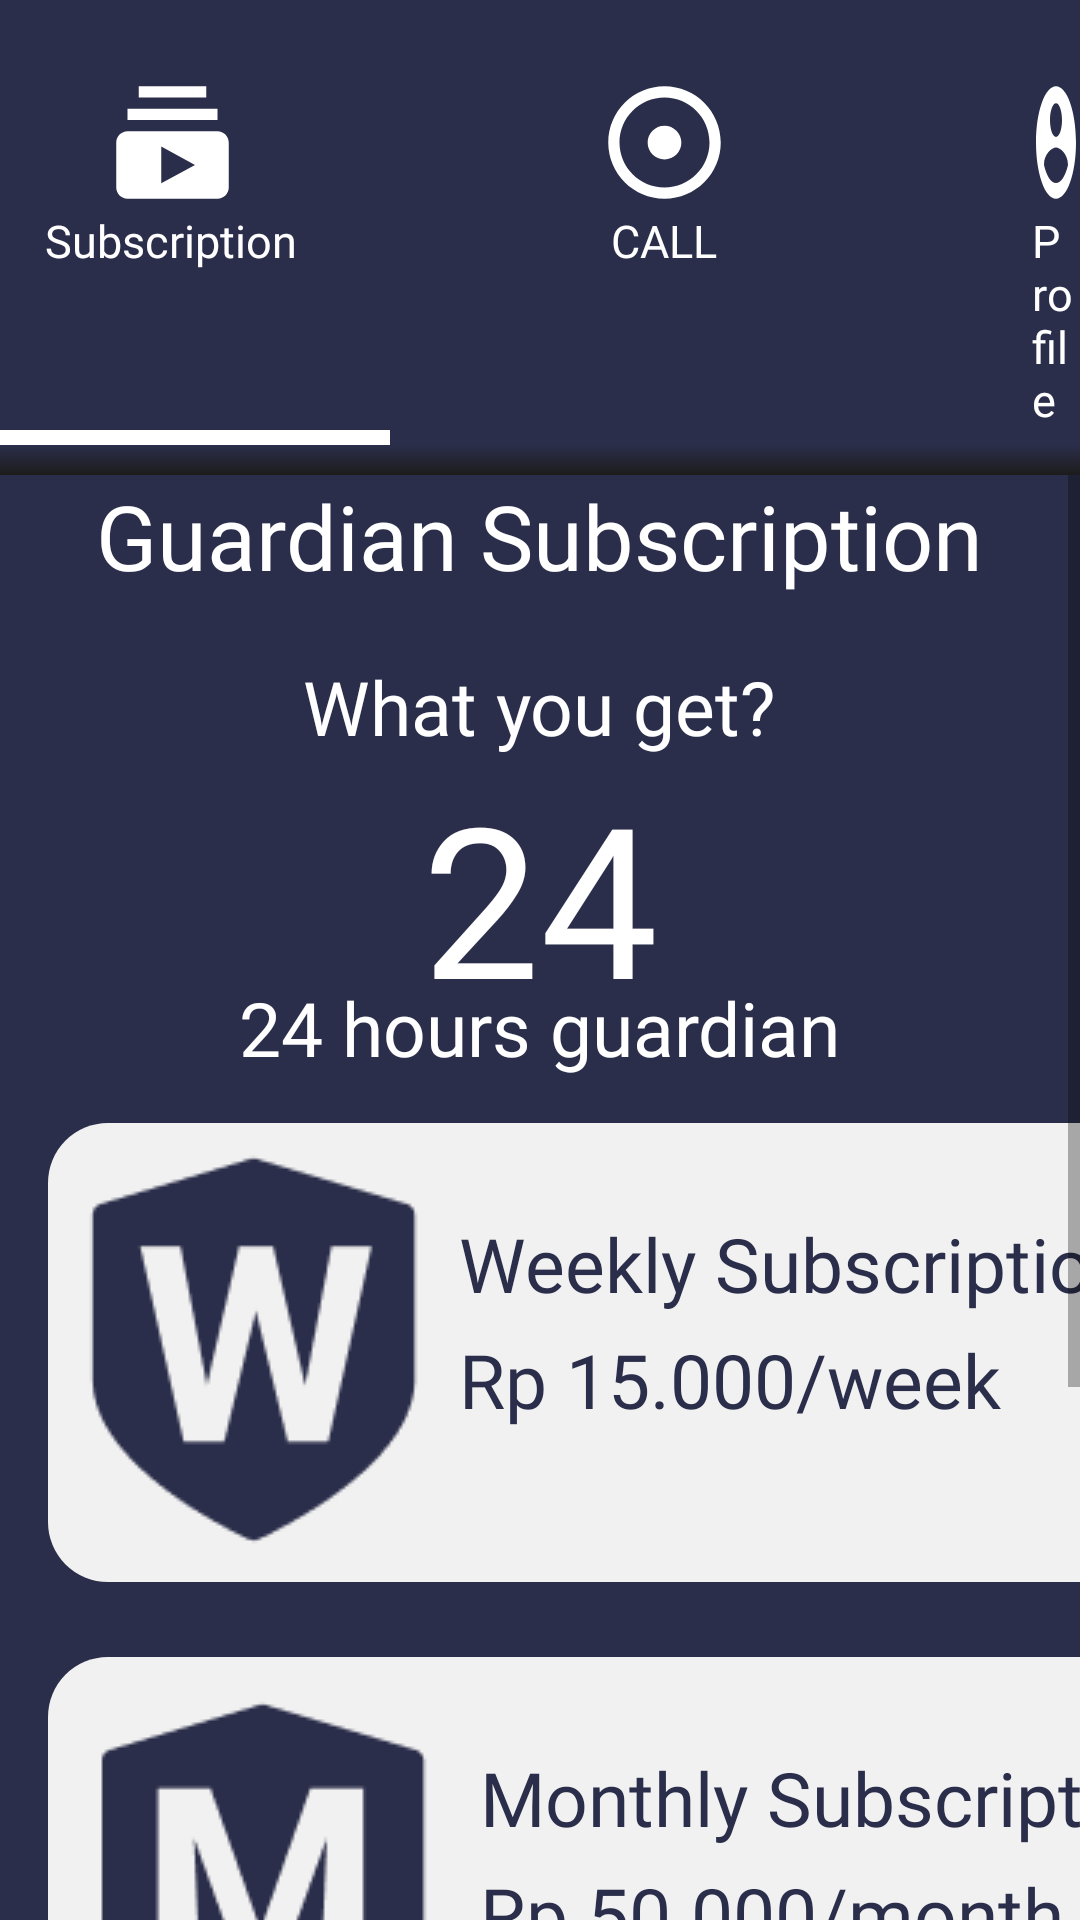

Icon bounding boxes for this 1080×1920 phone screenshot, format (x1, y1, x2, y2):
circle: (608, 86, 721, 199)
